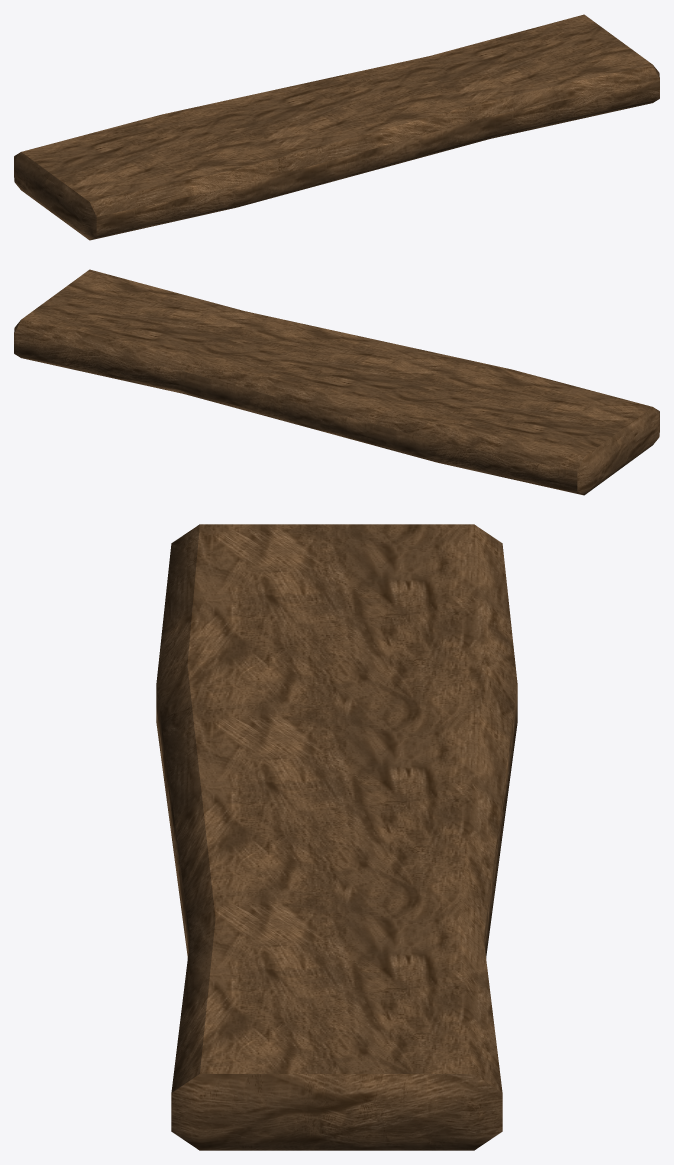
Rendered from WoodenPlank04.fbx.
The picture shows the model from 3 angles, top to bottom: view 1: azimuth 30°, elevation 25°; view 2: azimuth 150°, elevation 25°; view 3: azimuth 270°, elevation 25°; orthographic projection. The views are drawn at different scales.
Visible parts, largest first — view 1: WoodenPlank04; view 2: WoodenPlank04; view 3: WoodenPlank04.
Part boxes in pixels (box(x1,y1,x2,y2)): WoodenPlank04: box(14, 14, 659, 240); WoodenPlank04: box(14, 269, 659, 495); WoodenPlank04: box(156, 524, 517, 1150).
Size of the model in its own units: 2.09 by 0.1333 by 0.5672.
